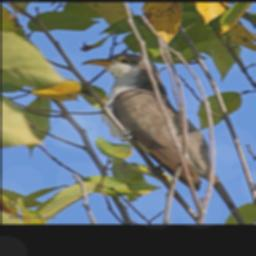Cuckoo: (48, 53, 212, 192)
